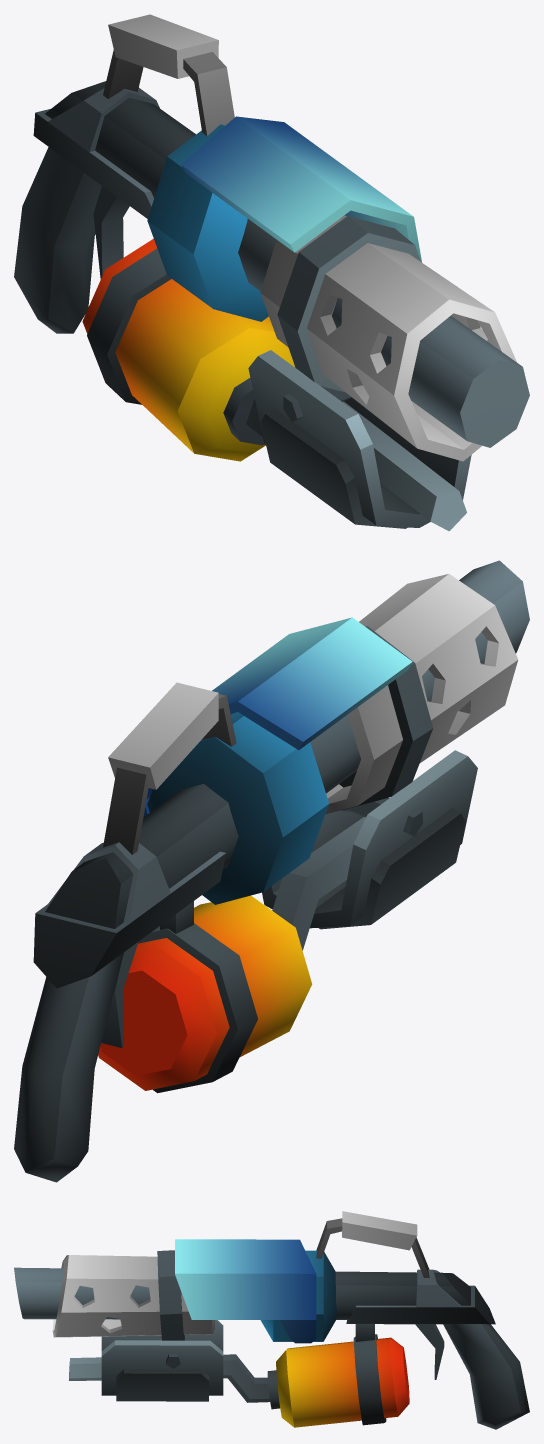
The model's file is Level4Gun.fbx.
3 renders of one model, top to bottom at view 1: azimuth 30°, elevation 25°; view 2: azimuth 150°, elevation 25°; view 3: azimuth 270°, elevation 25°, orthographic. The views are drawn at different scales.
Parts seen in each view (by area): view 1: Weapons_043; view 2: Weapons_043; view 3: Weapons_043.
Part boxes in pixels (x1=…): Weapons_043: x1=14, y1=14, x2=529, y2=531; Weapons_043: x1=14, y1=560, x2=529, y2=1182; Weapons_043: x1=14, y1=1211, x2=529, y2=1429.
Size of the model in its own units: 20.12 by 46.17 by 101.
Materials: 1 (1 with a texture image).
